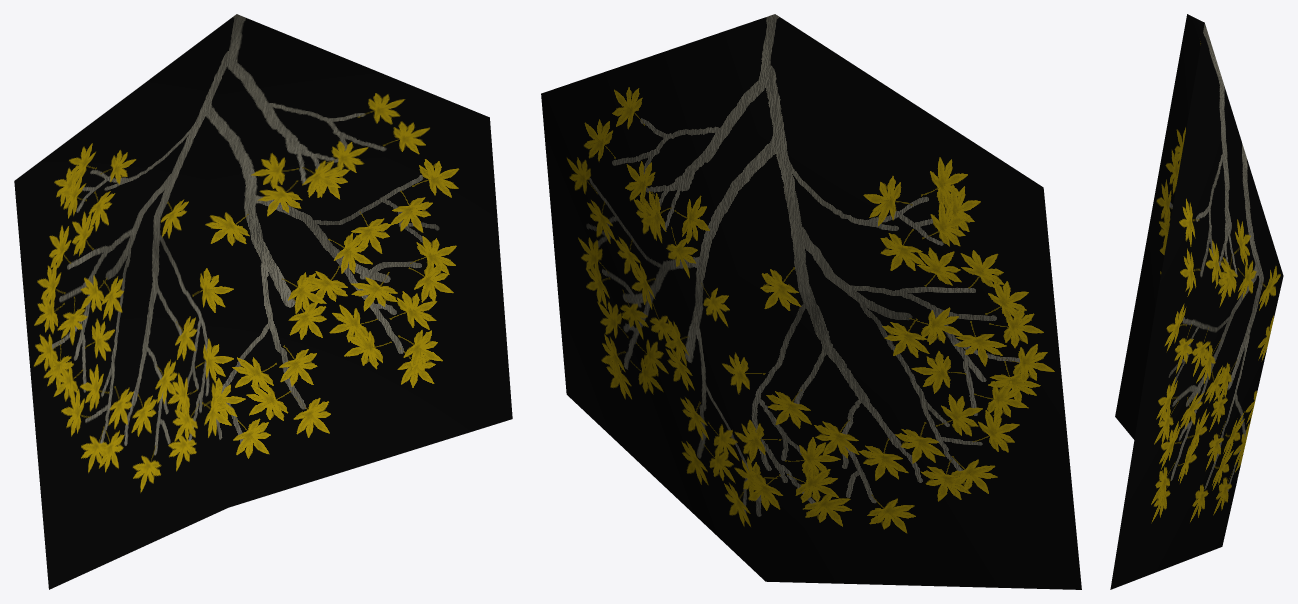
File: LeafMesh21.fbx
3 renders of one model, left to right at view 1: azimuth 30°, elevation 25°; view 2: azimuth 150°, elevation 25°; view 3: azimuth 270°, elevation 25°, orthographic. The views are drawn at different scales.
Visible parts, largest first — view 1: LeafMesh1; view 2: LeafMesh1; view 3: LeafMesh1.
Part boxes in pixels (x1,y1,x2,y2): LeafMesh1: (14, 14, 512, 589); LeafMesh1: (541, 14, 1081, 589); LeafMesh1: (1110, 14, 1283, 589).
Bounding box in the file's own units: 2 × 2.07 × 0.6195.
